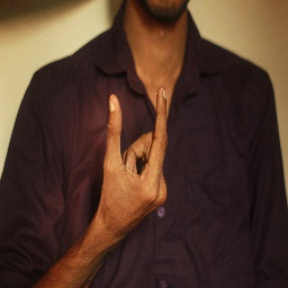U: (96, 82, 182, 218)
